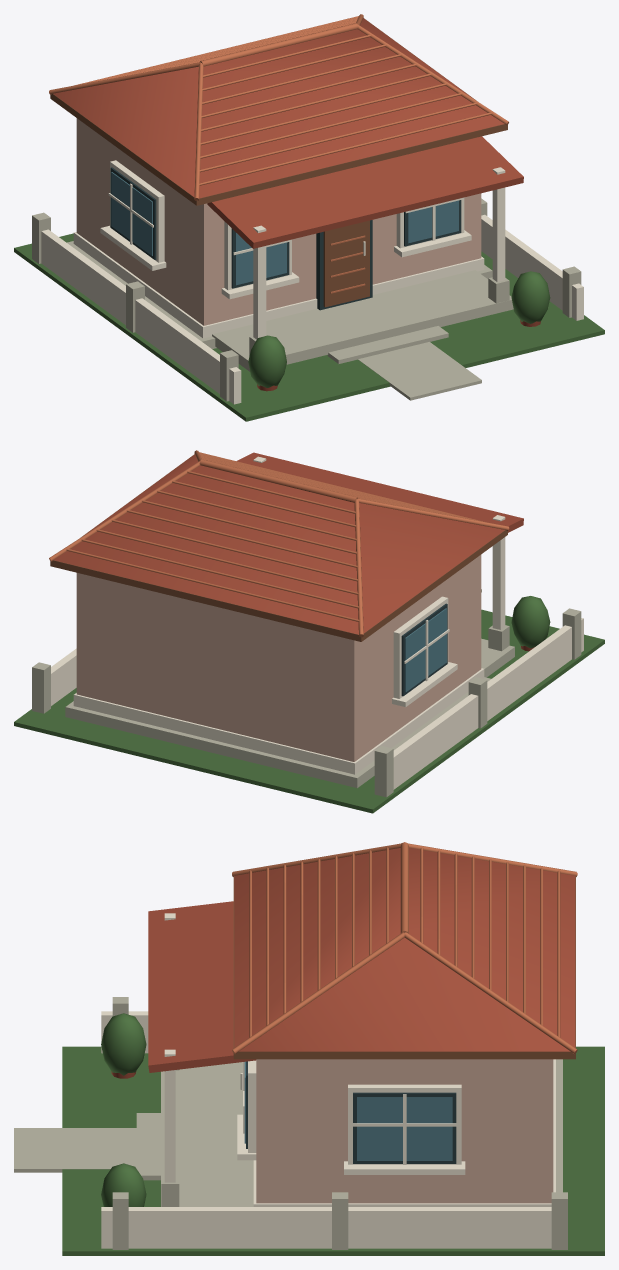
File: house-rose.glb
The picture shows the model from 3 angles, top to bottom: view 1: azimuth 30°, elevation 25°; view 2: azimuth 150°, elevation 25°; view 3: azimuth 270°, elevation 25°; orthographic projection. The views are drawn at different scales.
Parts seen in each view (by area): view 1: Tropical_house_Terracotta, Tropical_house_Limestone_trim, Tropical_house_Paving, Tropical_house_Mineral_plaster, Tropical_house_Garden_foliage, Tropical_house_Tile_ridges, Tropical_house_Teak, Tropical_house_Blue_glazing, Tropical_house_Charcoal_frames; view 2: Tropical_house_Mineral_plaster, Tropical_house_Terracotta, Tropical_house_Limestone_trim, Tropical_house_Garden_foliage, Tropical_house_Tile_ridges, Tropical_house_Paving, Tropical_house_Teak, Tropical_house_Blue_glazing, Tropical_house_Charcoal_frames; view 3: Tropical_house_Terracotta, Tropical_house_Mineral_plaster, Tropical_house_Limestone_trim, Tropical_house_Garden_foliage, Tropical_house_Paving, Tropical_house_Tile_ridges, Tropical_house_Blue_glazing, Tropical_house_Teak, Tropical_house_Charcoal_frames.
Part boxes in pixels (x1,y1,x2,y2): Tropical_house_Terracotta: (53,18,540,391); Tropical_house_Limestone_trim: (41,160,583,404); Tropical_house_Paving: (32,198,581,401); Tropical_house_Mineral_plaster: (76,118,481,325); Tropical_house_Garden_foliage: (14,233,604,421); Tropical_house_Tile_ridges: (49,14,508,293); Tropical_house_Teak: (50,18,507,307); Tropical_house_Blue_glazing: (111,172,458,285); Tropical_house_Charcoal_frames: (110,167,461,310); Tropical_house_Mineral_plaster: (76,555,481,761); Tropical_house_Terracotta: (53,452,534,651); Tropical_house_Limestone_trim: (51,456,583,789); Tropical_house_Garden_foliage: (14,596,604,813); Tropical_house_Tile_ridges: (49,450,509,637); Tropical_house_Paving: (32,589,581,797); Tropical_house_Teak: (50,454,507,641); Tropical_house_Blue_glazing: (405,608,446,692); Tropical_house_Charcoal_frames: (401,603,447,696); Tropical_house_Terracotta: (111,848,575,1078); Tropical_house_Mineral_plaster: (256,1059,553,1203); Tropical_house_Limestone_trim: (101,913,555,1248); Tropical_house_Garden_foliage: (62,1013,604,1255); Tropical_house_Paving: (14,997,567,1249); Tropical_house_Tile_ridges: (232,842,577,1054); Tropical_house_Blue_glazing: (244,1061,452,1160); Tropical_house_Teak: (233,875,575,1059); Tropical_house_Charcoal_frames: (246,1061,456,1163).
Size of the model in its own units: 7.5 by 4.57 by 9.15.
